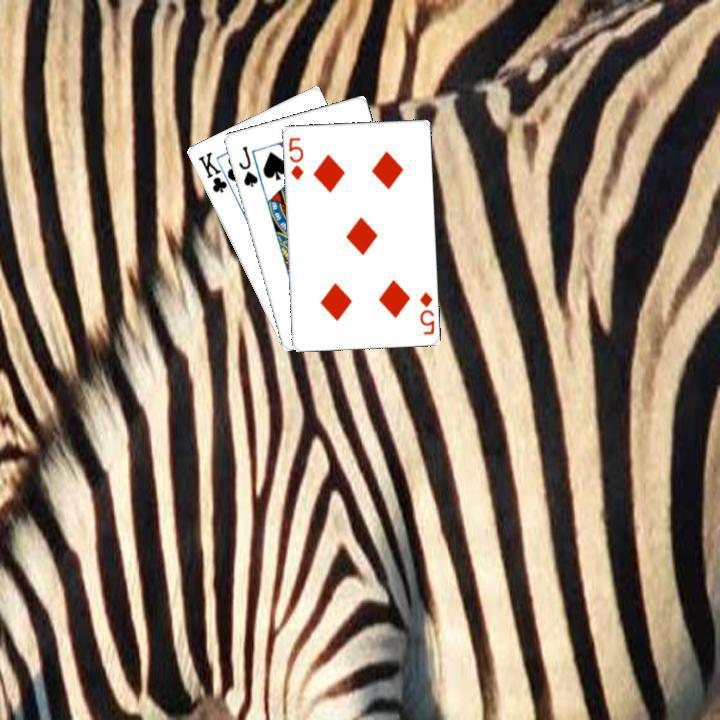5: (415, 287, 436, 336), (284, 133, 305, 181)
J: (234, 141, 260, 189)
K: (193, 147, 236, 194)
